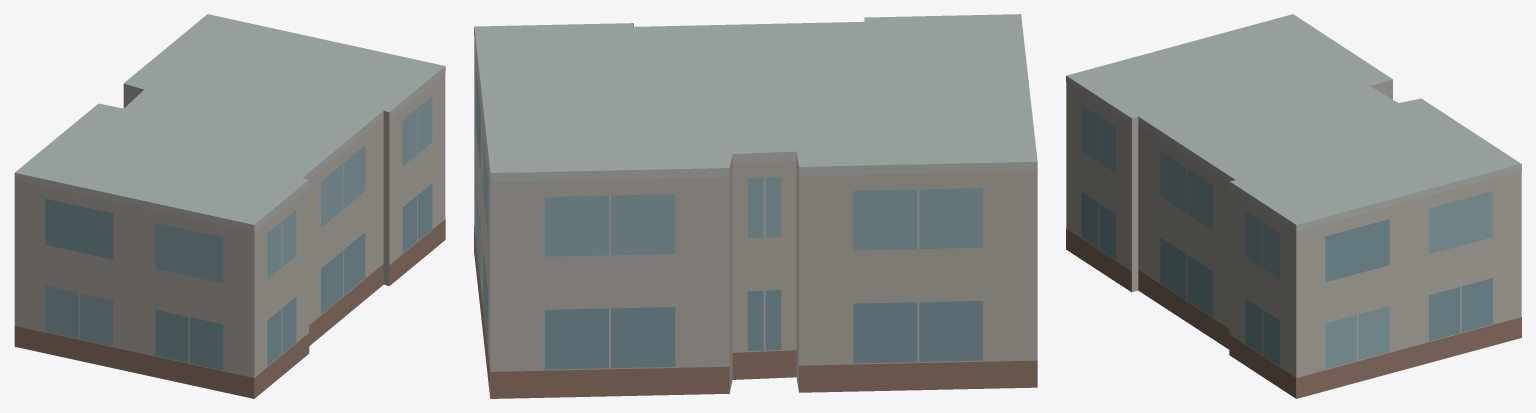
The model's file is survey-upis-32917994.glb.
3 renders of one model, left to right at view 1: azimuth 30°, elevation 25°; view 2: azimuth 150°, elevation 25°; view 3: azimuth 270°, elevation 25°, orthographic. The views are drawn at different scales.
Parts seen in each view (by area): view 1: survey-upis-32917994.tmp; view 2: survey-upis-32917994.tmp; view 3: survey-upis-32917994.tmp.
Boxes of the visible parts, box(x1,y1,x2,y2) form: survey-upis-32917994.tmp: box(14, 14, 445, 398); survey-upis-32917994.tmp: box(474, 14, 1037, 398); survey-upis-32917994.tmp: box(1066, 14, 1521, 398).
Bounding box in the file's own units: 15.88 × 6.1 × 14.49.
